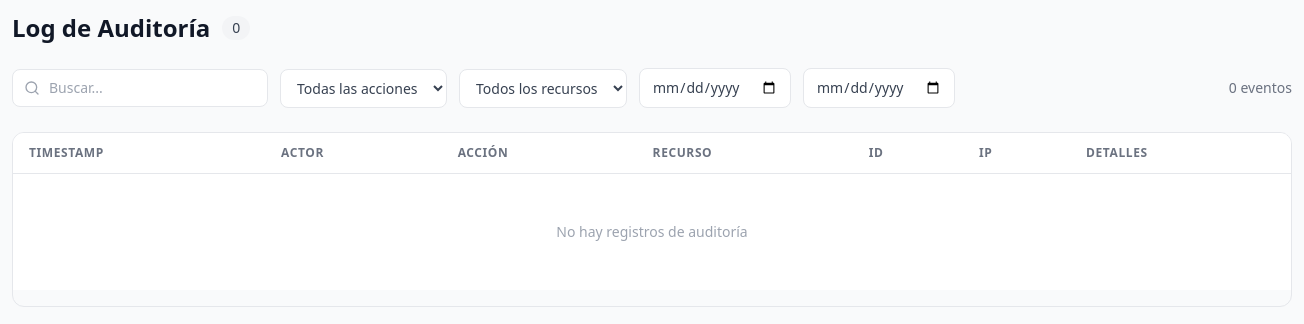
Test: AuditPage › "Limpiar filtros" button appears when filters active
Check: the text "Limpiar filtros" is not shown
// Select an action filter
Select "Crear" in the dropdown named "acción" at (364, 88), box [280,68,447,108]
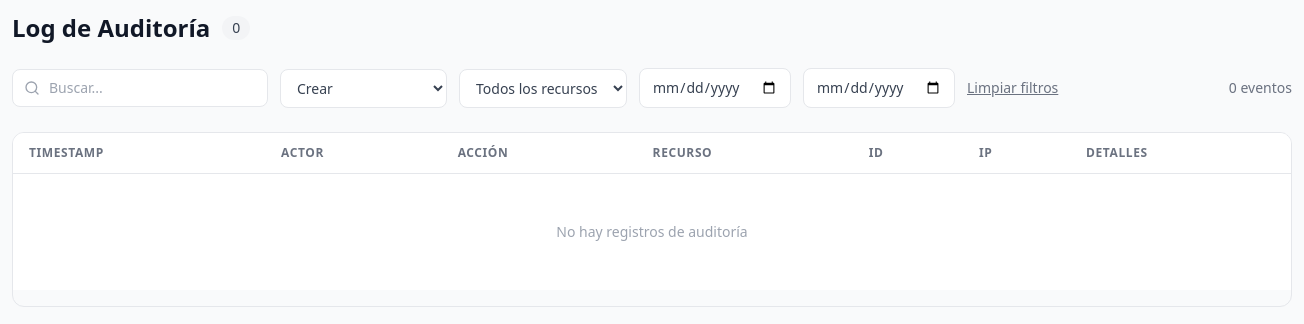
Check: the button "Limpiar filtros" is shown, box [967,78,1058,98]
